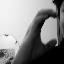c: (22, 7, 59, 54)
